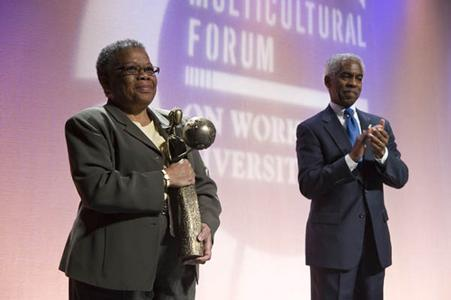person: (293, 52, 410, 299)
